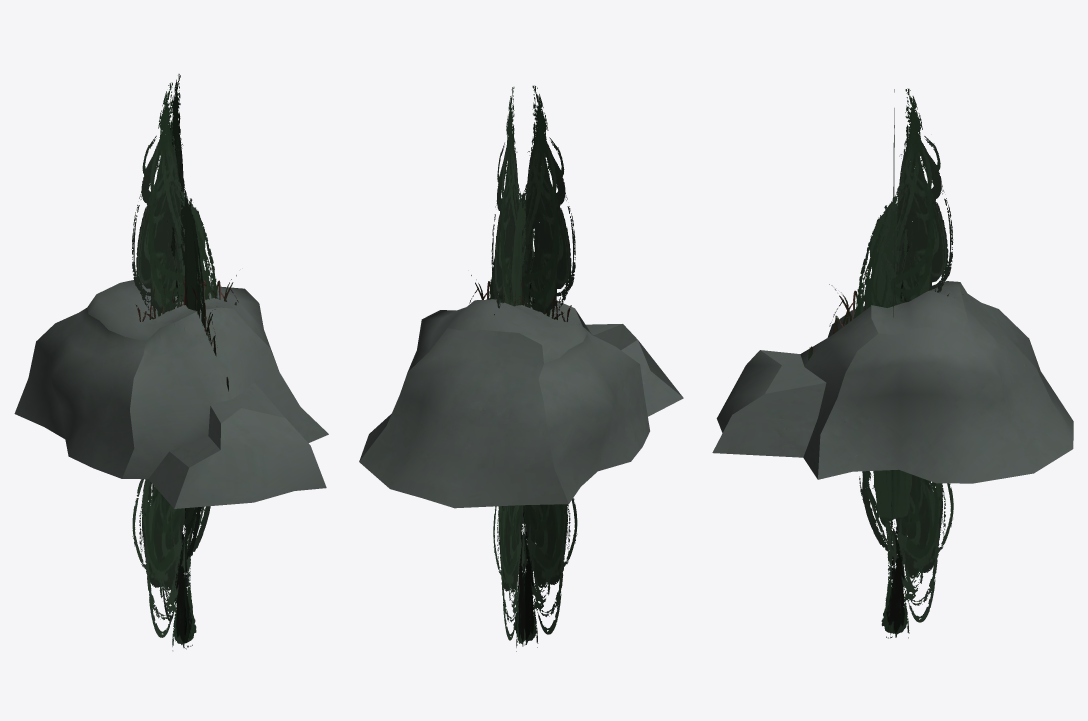
File: underwater-decorations.glb
The picture shows the model from 3 angles, left to right: view 1: azimuth 30°, elevation 25°; view 2: azimuth 150°, elevation 25°; view 3: azimuth 270°, elevation 25°; orthographic projection. The views are drawn at different scales.
Visible parts, largest first — view 1: Rock, pasted__pPlane2, pPlane1, Vine, pasted__pasted__pPlane2; view 2: Rock, pasted__pasted__pPlane1, pPlane1, Vine; view 3: Rock, pasted__pPlane1, pasted__Vine.
Part boxes in pixels (box(x1,y1,x2,y2)): Rock: box(14, 280, 328, 508); pasted__pPlane2: box(131, 82, 217, 650); pPlane1: box(152, 74, 206, 649); Vine: box(174, 197, 196, 523); pasted__pasted__pPlane2: box(135, 275, 238, 321); Rock: box(359, 296, 683, 508); pasted__pasted__pPlane1: box(489, 85, 577, 647); pPlane1: box(491, 87, 535, 651); Vine: box(511, 200, 533, 305); Rock: box(712, 281, 1073, 483); pasted__pPlane1: box(853, 88, 953, 638); pasted__Vine: box(872, 201, 911, 518).
Size of the model in its own units: 1565 by 2962 by 1733.
7 materials, 7 textured.
